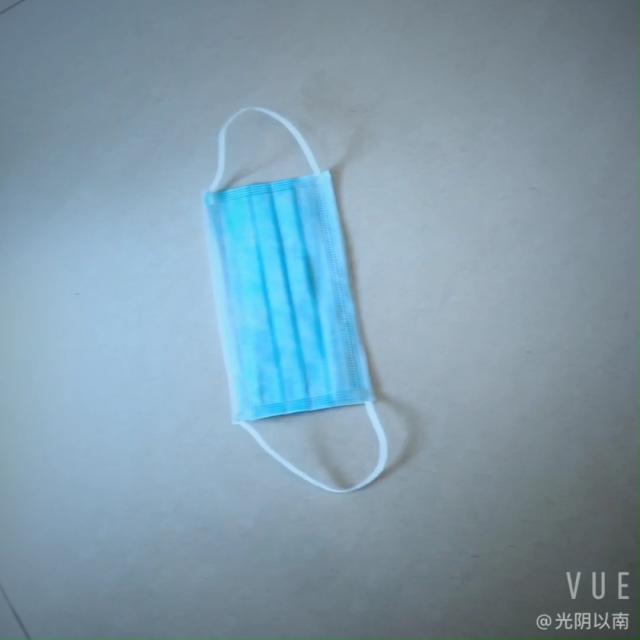non-organic waste: (190, 155, 372, 461)
